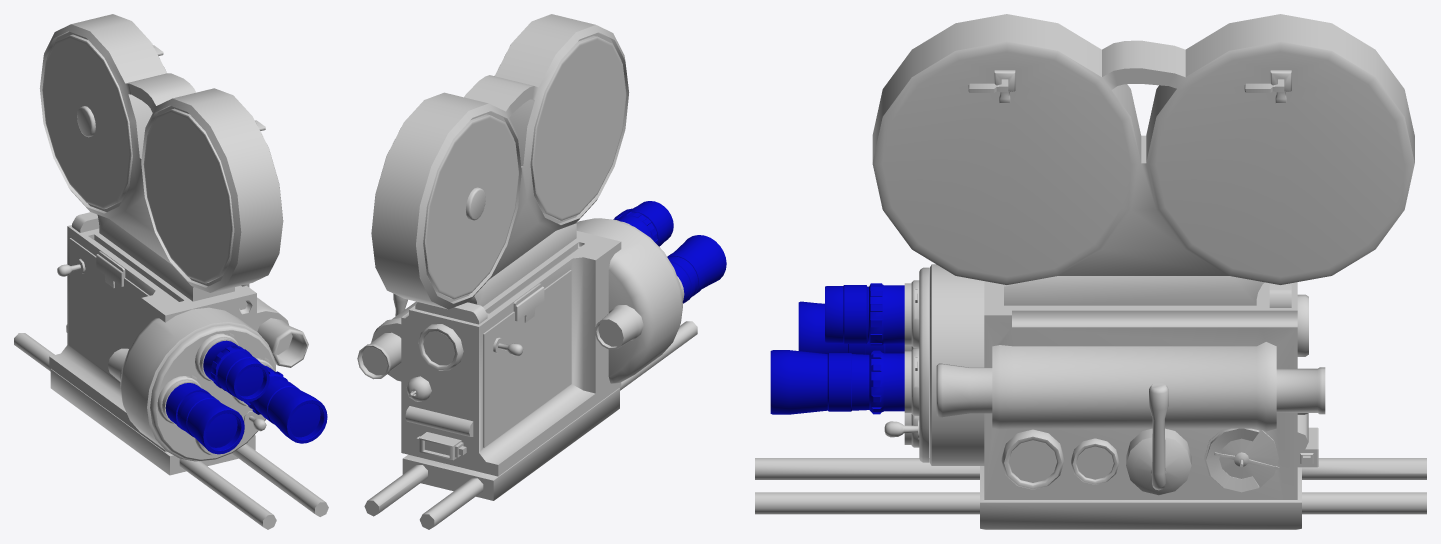
File: Vintage Film Camera with Lens Set 02.fbx
3 renders of one model, left to right at view 1: azimuth 30°, elevation 25°; view 2: azimuth 150°, elevation 25°; view 3: azimuth 270°, elevation 25°, orthographic. The views are drawn at different scales.
Parts seen in each view (by area): view 1: Cube; view 2: Cube; view 3: Cube.
Part boxes in pixels (box(x1,y1,x2,y2)): Cube: box(14, 14, 328, 529); Cube: box(357, 14, 726, 529); Cube: box(755, 14, 1426, 529).
Bounding box in the file's own units: 39.92 × 72.52 × 91.73.
